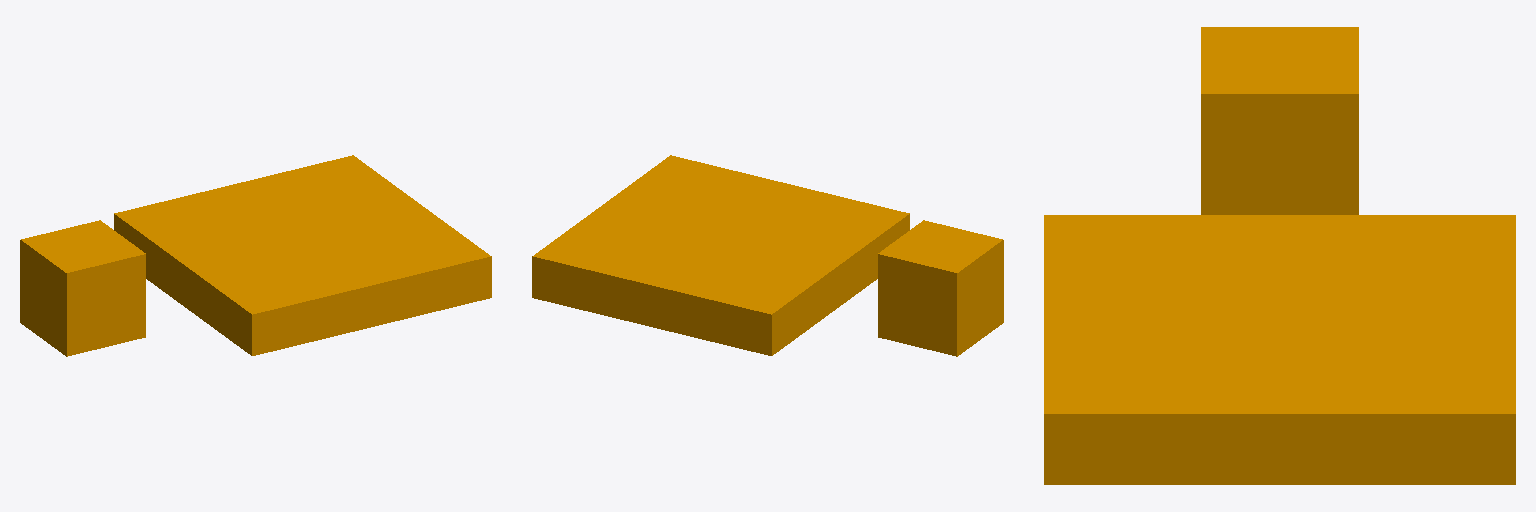
robot.urdf — your_robot_name:
<robot name="your_robot_name">
    <link name="base_link">
        <visual>
            <origin rpy="0 0 0" xyz="0 0 0" />
            <geometry>
                <box size="0.04 0.04 0.04" />
            </geometry>
            <color rgba="1.0 0.0 0.0 0.0"/>
        </visual>
        <visual>
            <origin rpy="0 0 0" xyz="0.11 0 -0.01" />
            <geometry>
                <box size="0.12 0.12 0.02" />
            </geometry>
            <color rgba="1.0 0.0 0.0 0.0"/>
        </visual>
        <collision>
            <origin rpy="0 0 0" xyz="0 0 0" />
            <geometry>
                <box size="0.04 0.04 0.04" />
            </geometry>
        </collision>
        <collision>
            <origin rpy="0 0 0" xyz="0.11 0 -0.01" />
            <geometry>
                <box size="0.12 0.12 0.02" />
            </geometry>
        </collision>
        <inertial>
            <origin rpy="0 0 0" xyz="0 0 0" />
            <mass value="0.3" />
            <inertia ixx="1" ixy="0" ixz="0" iyy="1" iyz="0" izz="1" />
        </inertial>
    </link>
</robot>

--- Facts derived from the render (not from the file) ---
The picture shows the robot from 3 angles, left to right: view 1: azimuth 30°, elevation 25°; view 2: azimuth 150°, elevation 25°; view 3: azimuth 270°, elevation 25°; orthographic projection.
Model your_robot_name with 1 links and 0 joints (none), rooted at base_link, posed all joints at 0.
Visible links, largest first — view 1: base_link; view 2: base_link; view 3: base_link.
Boxes of the visible links, x1,y1,x2,y2 form: base_link: (20,155,491,356); base_link: (532,155,1003,356); base_link: (1044,27,1515,484).
Size in the robot's own frame: 0.19 by 0.12 by 0.04 metres.
Geometry: primitives only (box / cylinder / sphere), no mesh files.